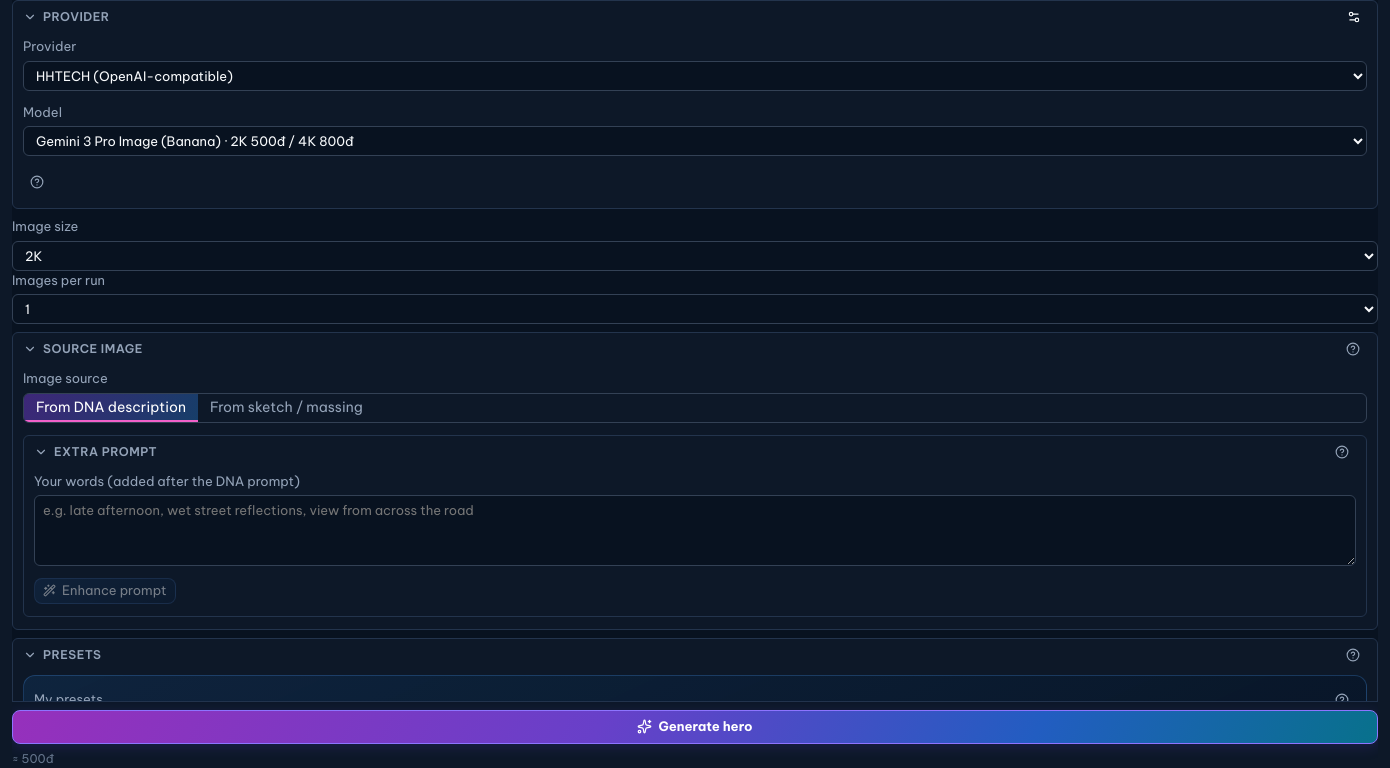
Test: Generate panel with HHTECH › hides quality for Gemini, defaults to the priced 2K tier
This screenshot has width=1390, height=768.
Select "4K" in the dropdown labelled "Image size" at (695, 256), box [12, 240, 1378, 270]
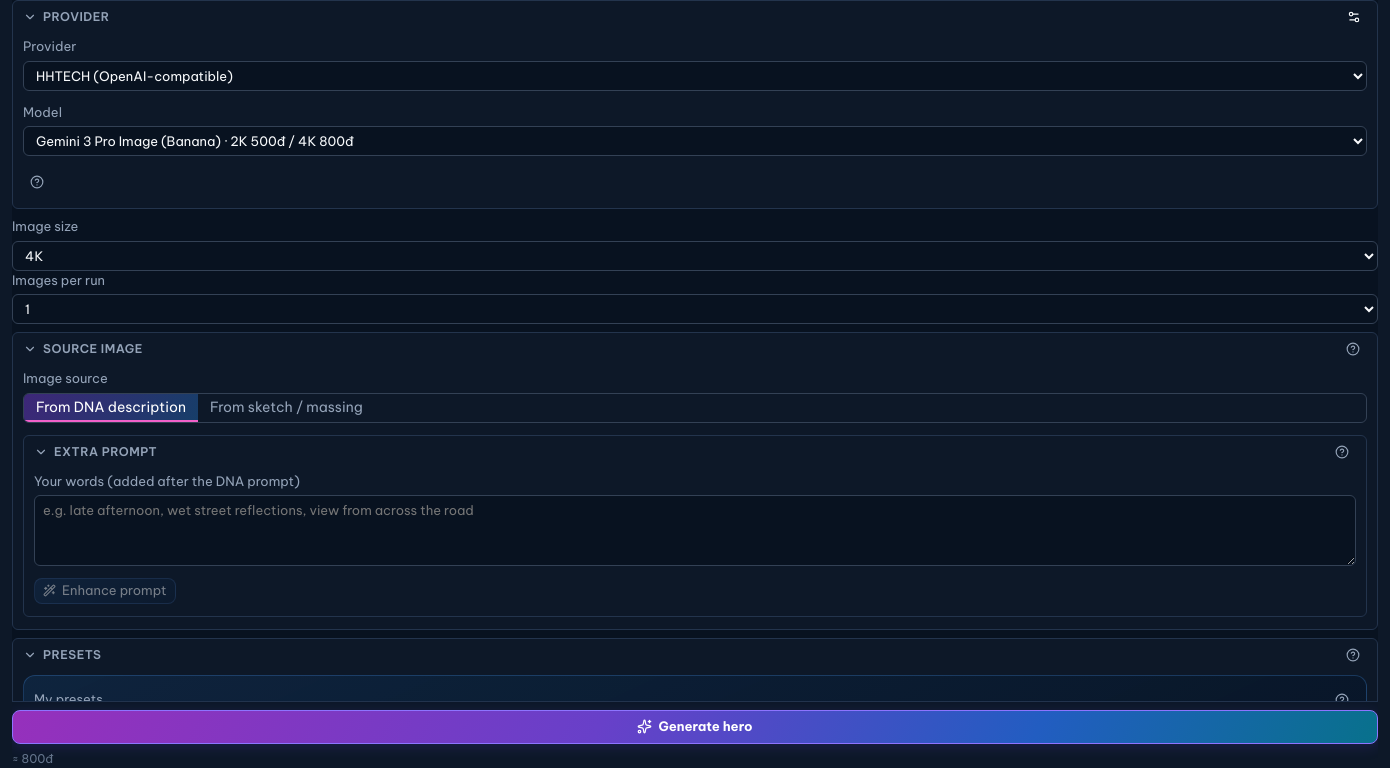
Expected: the text with test id "generate-cost" reads "≈ 800đ", [12, 751, 53, 766]
